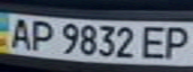2: (115, 22, 142, 60)
3: (97, 22, 118, 58)
8: (78, 21, 100, 57)
9: (54, 20, 81, 55)
A: (3, 16, 36, 51)
E: (139, 22, 172, 61)
P: (160, 24, 193, 60), (24, 17, 57, 52)
